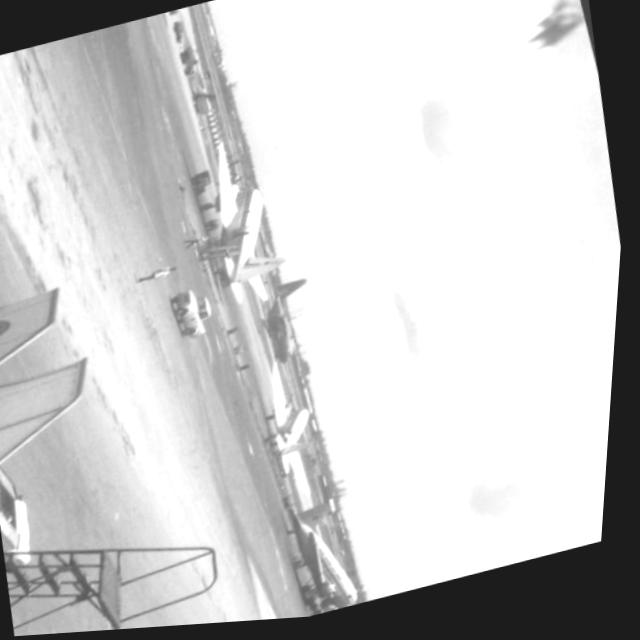aeroplane: (248, 354, 347, 510)
